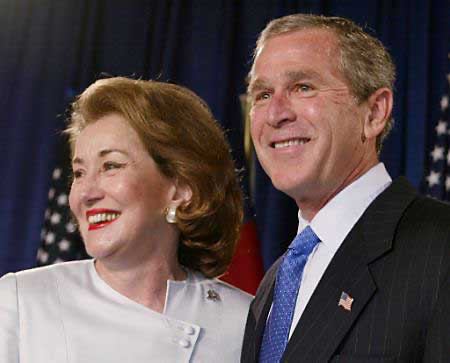Face: (228, 50, 366, 210), (58, 132, 183, 267)
